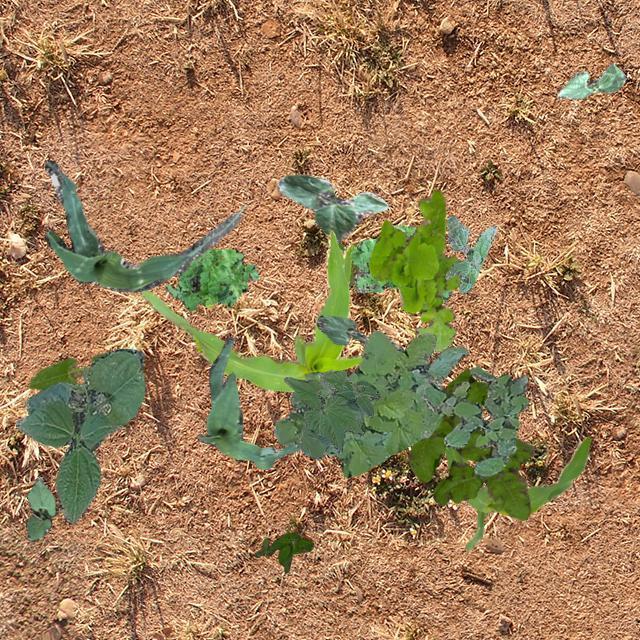crop: (137, 228, 360, 390), (44, 160, 245, 292), (15, 348, 144, 524), (444, 436, 590, 550), (196, 336, 298, 468), (282, 370, 378, 458), (276, 174, 388, 242), (28, 352, 106, 390), (556, 62, 624, 98), (24, 476, 56, 540), (316, 314, 366, 344)
weed: (273, 329, 467, 476), (408, 368, 534, 520), (368, 188, 460, 350), (420, 366, 528, 478), (350, 225, 450, 302), (165, 248, 258, 310), (444, 214, 496, 292), (254, 530, 312, 572), (337, 242, 358, 286)
